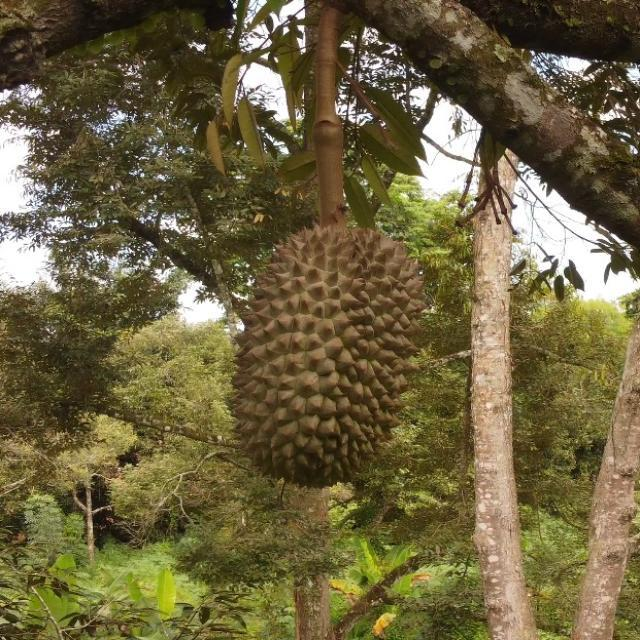mature: (228, 221, 430, 489)
